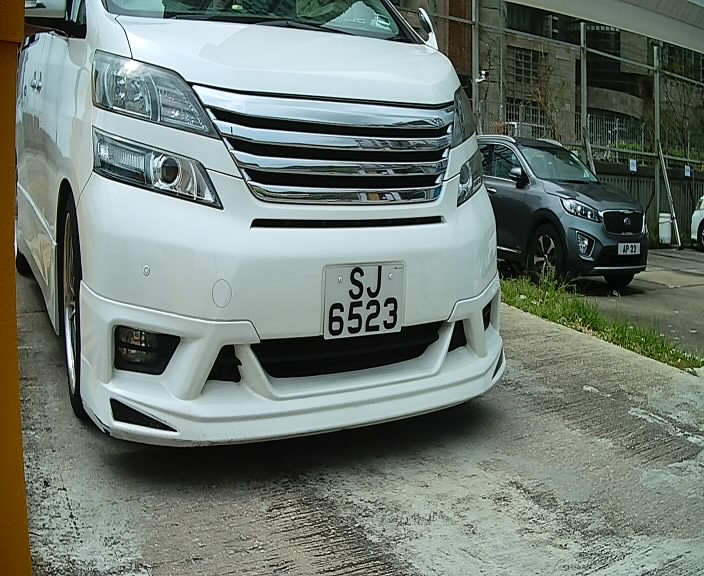Car: (24, 2, 516, 485)
License Plate: (315, 259, 418, 349)
